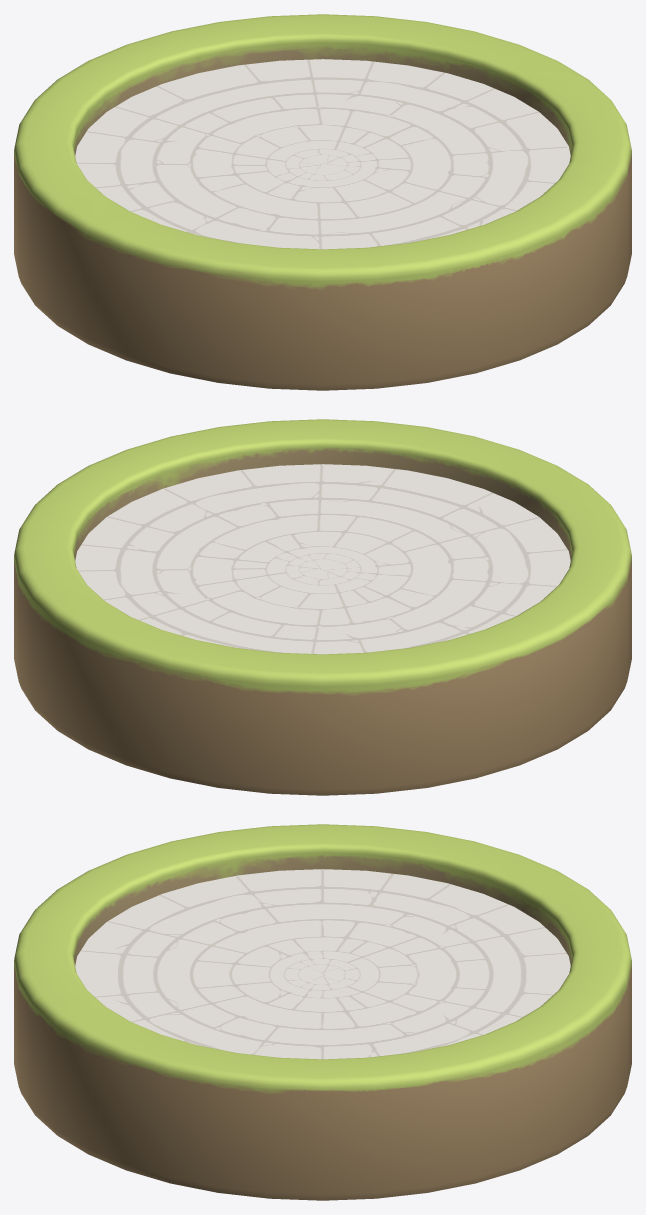
File: S1_oldFloor_000.FBX
3 views of the same model, one above another, from view 1: azimuth 30°, elevation 25°; view 2: azimuth 150°, elevation 25°; view 3: azimuth 270°, elevation 25° (orthographic).
Visible parts, largest first — view 1: Floor_1; view 2: Floor_1; view 3: Floor_1.
Part boxes in pixels (bbox=[...]): Floor_1: bbox=[14, 14, 631, 390]; Floor_1: bbox=[14, 419, 631, 795]; Floor_1: bbox=[14, 824, 631, 1200].
Size of the model in its own units: 15400 by 3284 by 15400.
